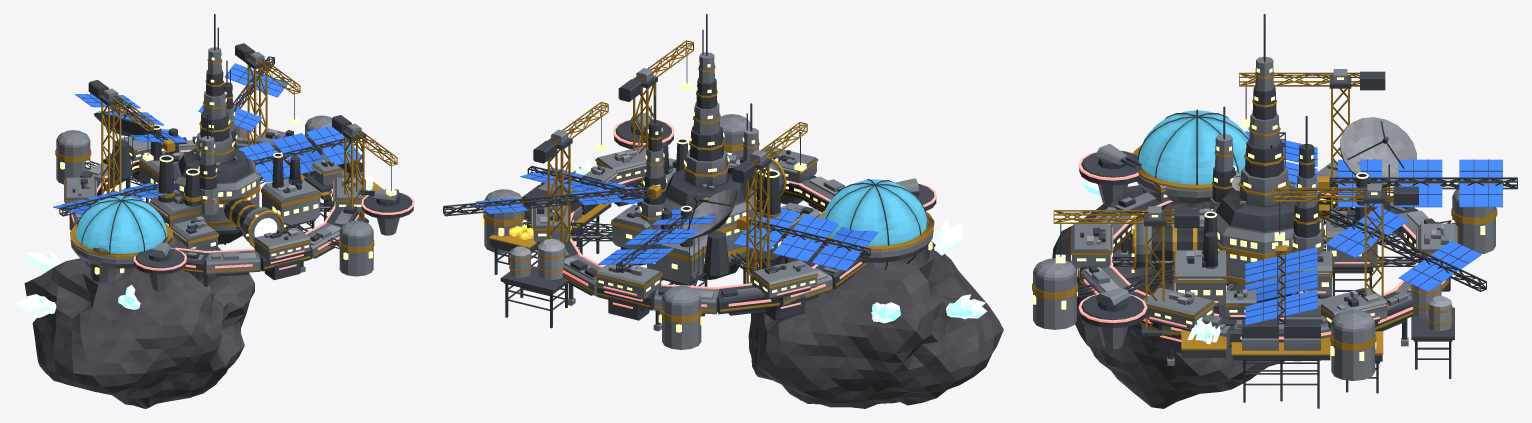
File: station_l5.glb
3 renders of one model, left to right at view 1: azimuth 30°, elevation 25°; view 2: azimuth 150°, elevation 25°; view 3: azimuth 270°, elevation 25°, orthographic. The views are drawn at different scales.
Visible parts, largest first — view 1: station_l5, spin_ring, crane_0_mesh, crane_2_mesh, crane_1_mesh; view 2: station_l5, spin_ring, crane_2_mesh, crane_1_mesh, crane_0_mesh; view 3: station_l5, spin_ring, crane_1_mesh, crane_2_mesh, crane_0_mesh.
Boxes of the visible parts, left/top/right/bottom form: station_l5: left=14, top=14, right=414, bottom=408; spin_ring: left=64, top=128, right=365, bottom=290; crane_0_mesh: left=88, top=80, right=154, bottom=161; crane_2_mesh: left=332, top=115, right=397, bottom=196; crane_1_mesh: left=235, top=43, right=300, bottom=124; station_l5: left=443, top=14, right=1003, bottom=408; spin_ring: left=531, top=146, right=866, bottom=331; crane_2_mesh: left=618, top=40, right=693, bottom=101; crane_1_mesh: left=533, top=102, right=608, bottom=163; crane_0_mesh: left=732, top=122, right=807, bottom=183; station_l5: left=1032, top=14, right=1517, bottom=408; spin_ring: left=1071, top=160, right=1458, bottom=365; crane_1_mesh: left=1272, top=184, right=1418, bottom=240; crane_2_mesh: left=1053, top=206, right=1199, bottom=263; crane_0_mesh: left=1239, top=69, right=1385, bottom=125.
Size of the model in its own units: 33.3 by 28.48 by 28.83.
